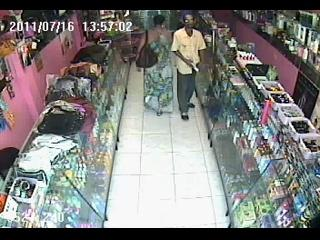Normal: (170, 13, 207, 121), (136, 15, 174, 116), (136, 30, 158, 68)
